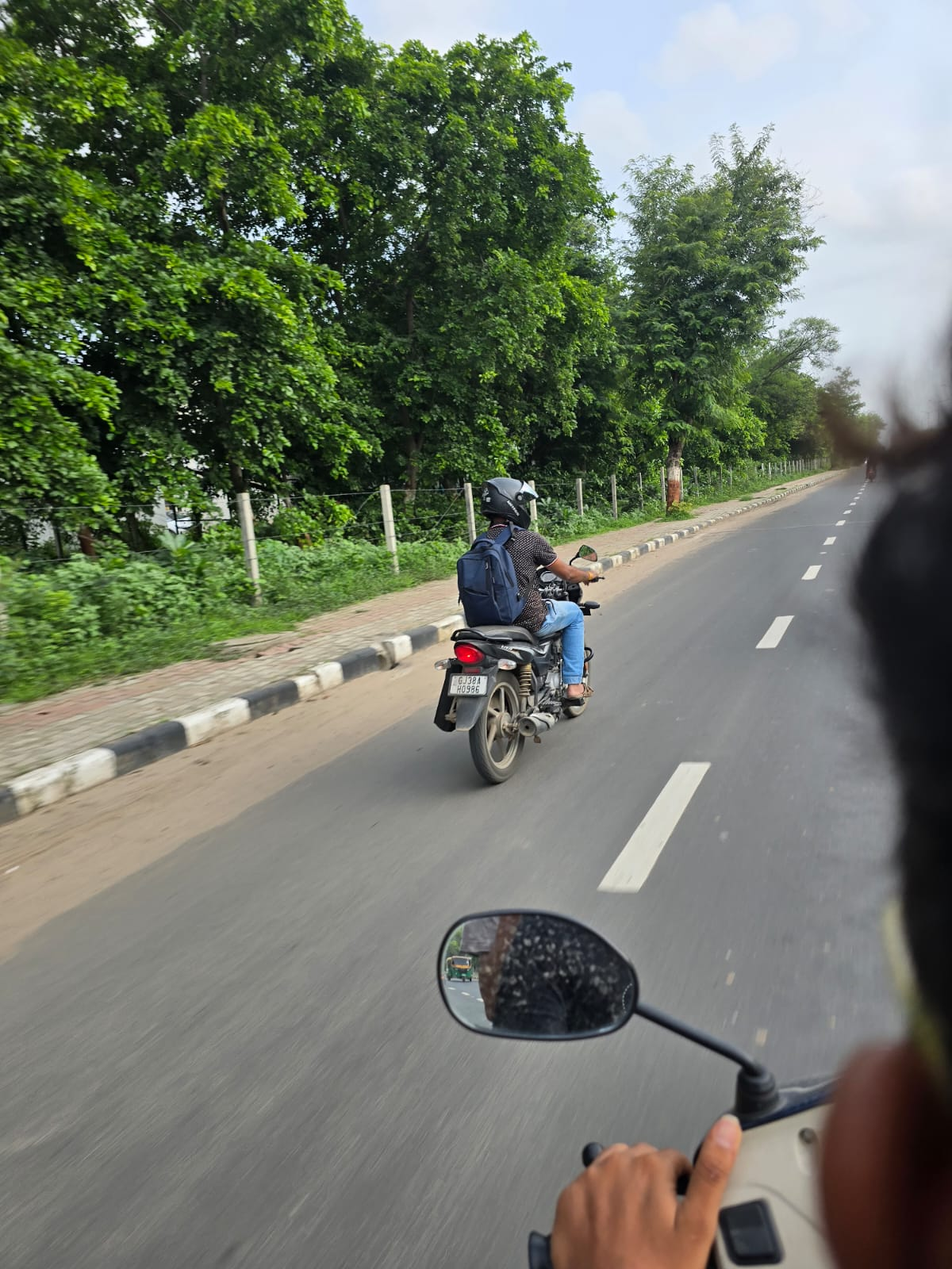BikeWithRider: (428, 470, 609, 794)
Helmet: (479, 472, 539, 533)
